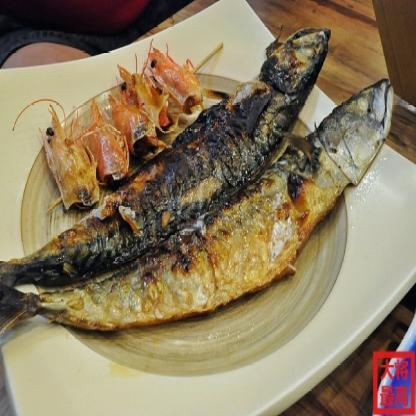Peixe: (0, 24, 409, 340)
